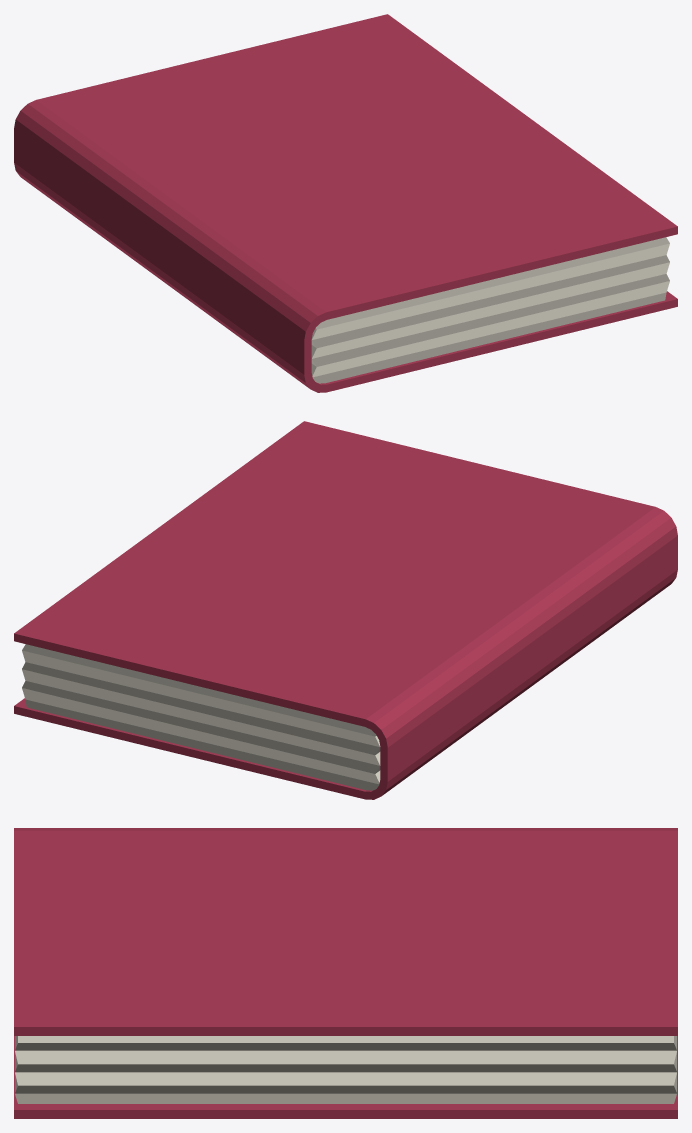
File: book.fbx
The picture shows the model from 3 angles, top to bottom: view 1: azimuth 30°, elevation 25°; view 2: azimuth 150°, elevation 25°; view 3: azimuth 270°, elevation 25°; orthographic projection. The views are drawn at different scales.
Visible parts, largest first — view 1: Cube.001, Cube.002; view 2: Cube.001, Cube.002; view 3: Cube.001, Cube.002.
Boxes of the visible parts, x1=… form: Cube.001: x1=14, y1=14, x2=677, y2=392; Cube.002: x1=311, y1=237, x2=669, y2=383; Cube.001: x1=14, y1=421, x2=677, y2=799; Cube.002: x1=22, y1=644, x2=380, y2=790; Cube.001: x1=14, y1=828, x2=677, y2=1118; Cube.002: x1=15, y1=1036, x2=676, y2=1103.
Size of the model in its own units: 201 by 41.33 by 271.
